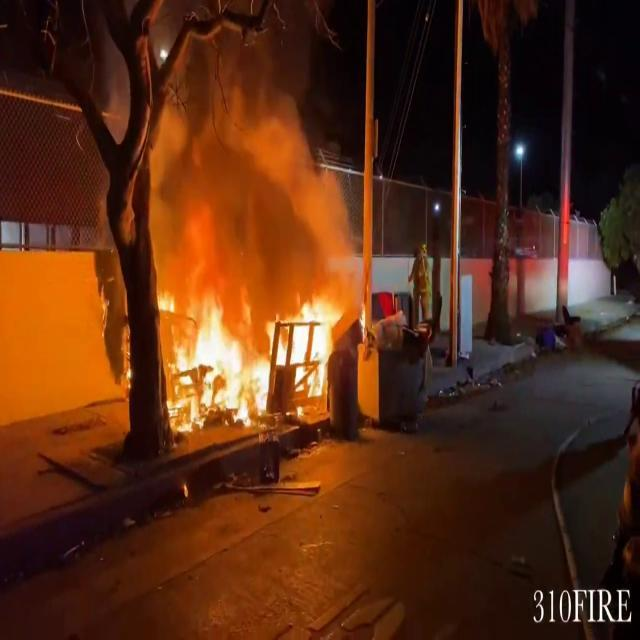Fire: (164, 281, 346, 432)
Smoke: (153, 24, 360, 280)
